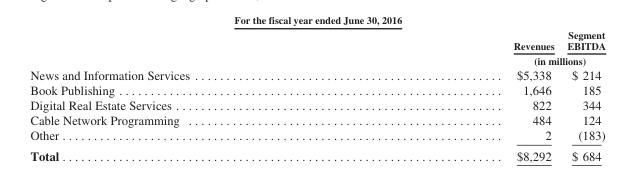table: (29, 29, 605, 162)
table column: (29, 29, 351, 162), (351, 29, 560, 162), (560, 29, 605, 162)
table column header: (29, 29, 605, 66)
table row: (29, 29, 605, 52), (29, 127, 605, 145), (29, 145, 605, 162), (29, 66, 605, 82), (29, 82, 605, 97), (29, 97, 605, 112), (29, 112, 605, 127), (29, 52, 605, 66)
table spanning cell: (351, 52, 605, 66)
